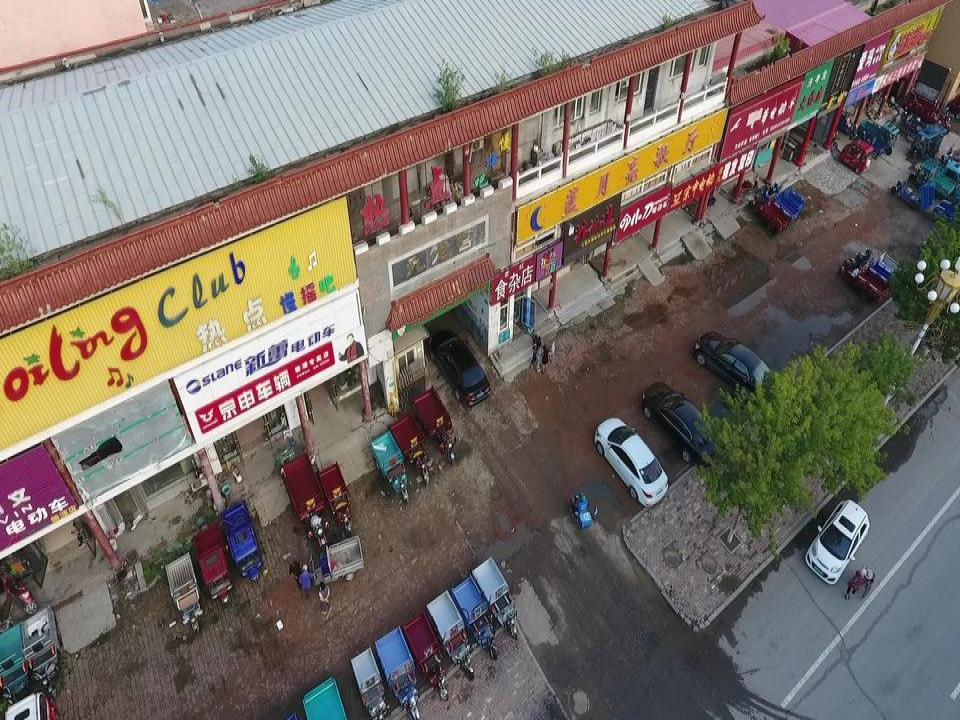car: (638, 384, 719, 468), (591, 419, 668, 505), (694, 331, 780, 401), (805, 500, 869, 584), (424, 332, 491, 405)
